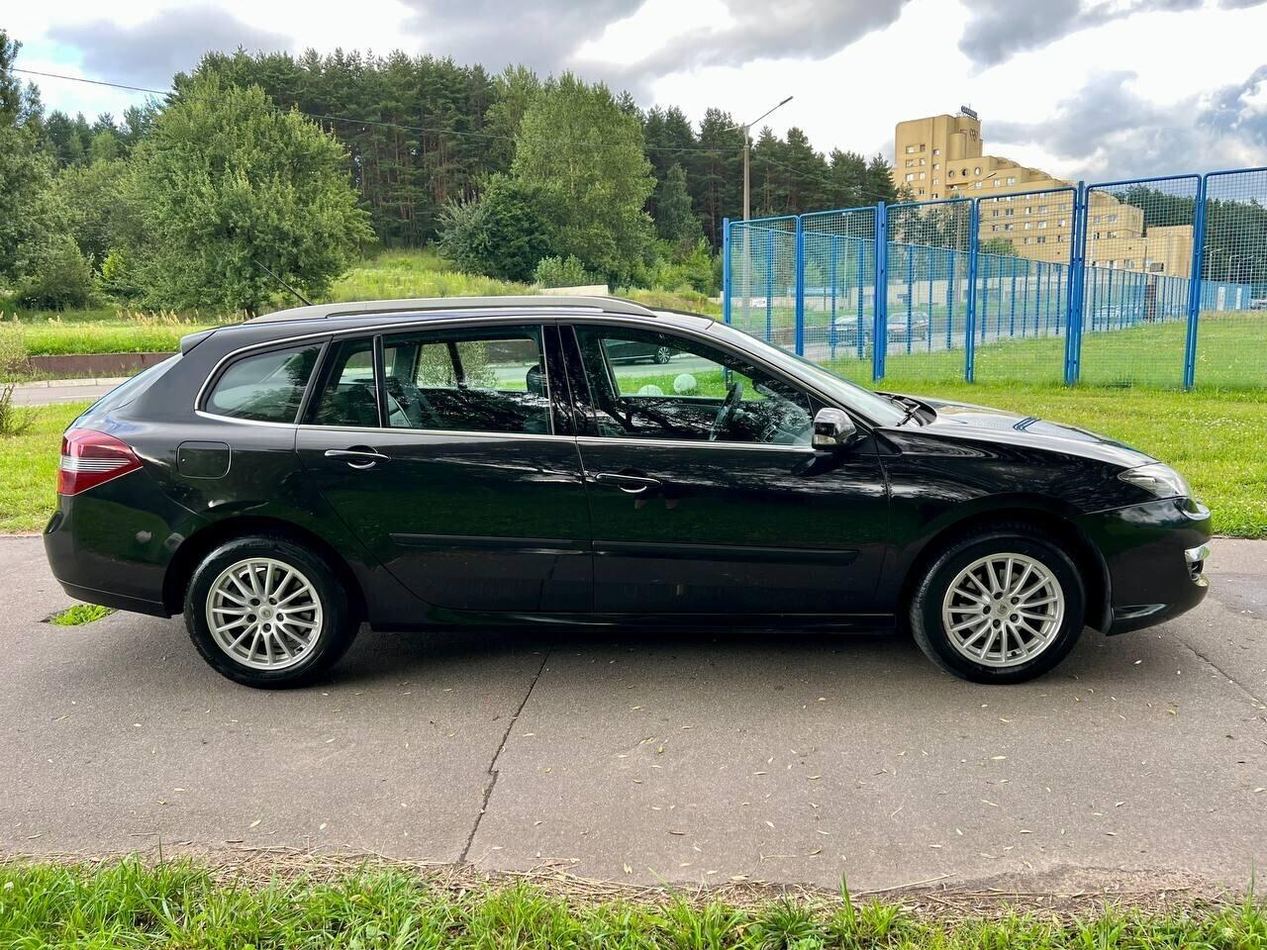Laguna_2010-2015: (37, 287, 1220, 717)
